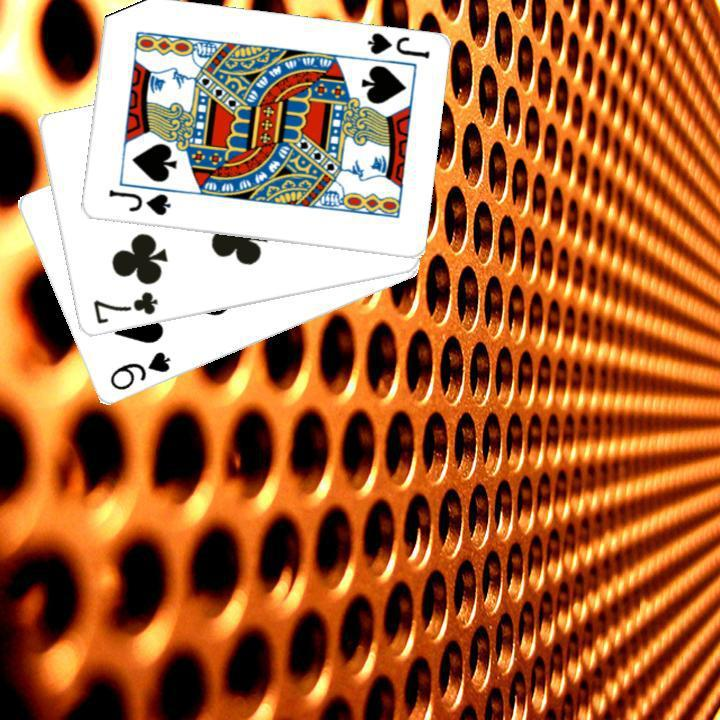7: (88, 287, 160, 327)
9: (105, 347, 173, 393)
J: (362, 29, 431, 61), (104, 186, 172, 218)
